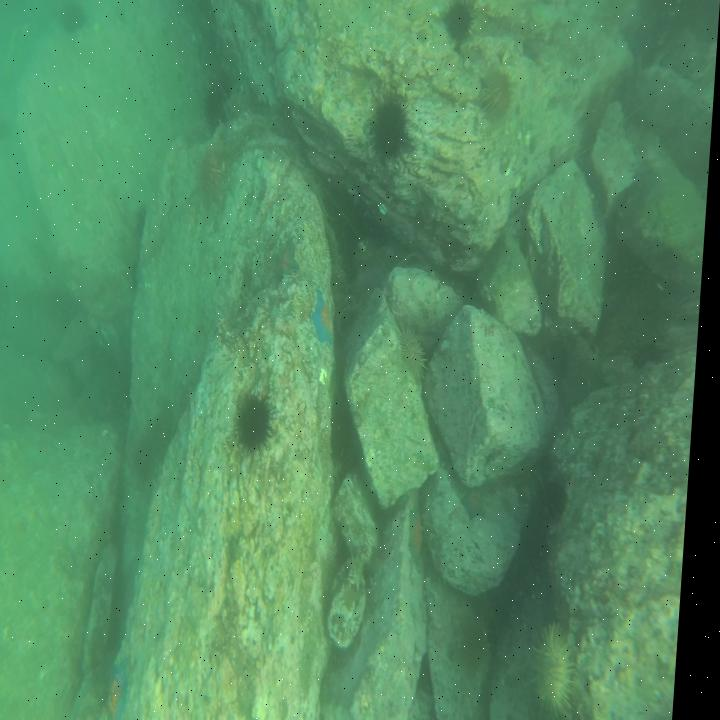echinus: (540, 620, 589, 712), (371, 84, 416, 161), (459, 609, 506, 676), (399, 321, 438, 384), (241, 391, 278, 456), (479, 60, 516, 124), (197, 155, 237, 209), (199, 78, 232, 130), (540, 476, 577, 522), (440, 1, 477, 41), (153, 406, 185, 450)
starfish: (108, 667, 147, 719), (312, 286, 344, 348), (413, 504, 437, 566), (468, 483, 496, 525), (275, 240, 305, 276)
